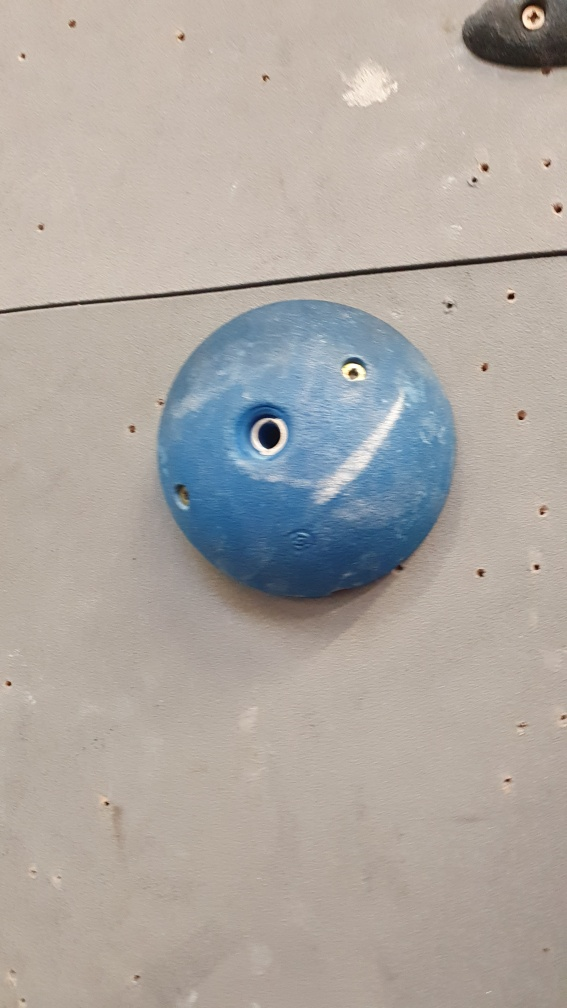Sloper: (155, 295, 462, 607)
